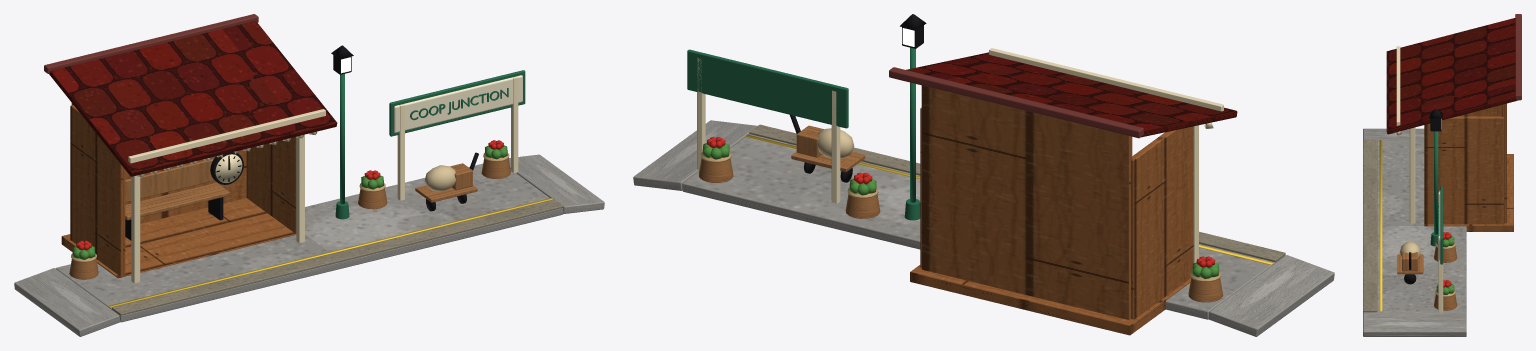
The model's file is station.glb.
3 renders of one model, left to right at view 1: azimuth 30°, elevation 25°; view 2: azimuth 150°, elevation 25°; view 3: azimuth 270°, elevation 25°, orthographic. The views are drawn at different scales.
Visible parts, largest first — view 1: st_roof, st_platform, st_floor, st_endwall, st_edge, st_endwall.001, st_ramp, st_sign, st_ramp.001, st_benchback, st_ridge, st_fascia (+17 smaller); view 2: st_back, st_platform, st_endwall, st_roof, st_signedge, st_ramp, st_floor, st_ridge, st_ramp.001, st_edge, st_fascia, st_signpost (+10 smaller); view 3: st_roof, st_platform, st_endwall.001, st_edge, st_ramp.001, st_floor, st_line, st_post.001, st_ramp, st_ridge, st_lamppole, st_fascia (+11 smaller).
Part boxes in pixels (x1,y1,x2,y2): st_roof: (49,21,337,176); st_platform: (55,163,563,322); st_floor: (61,198,296,278); st_endwall: (70,105,125,277); st_edge: (112,199,563,315); st_endwall.001: (246,137,296,233); st_ramp: (14,268,120,336); st_sign: (394,75,522,132); st_ramp.001: (508,154,604,213); st_benchback: (125,158,214,202); st_ridge: (44,14,258,73); st_fascia: (128,109,325,163); st_back: (921,85,1132,319); st_platform: (682,134,1285,319); st_endwall: (1131,126,1193,319); st_roof: (906,52,1237,137); st_signedge: (687,49,848,128); st_ramp: (1208,255,1334,336); st_floor: (910,265,1190,335); st_ridge: (889,67,1143,138); st_ramp.001: (633,120,757,190); st_edge: (749,124,1285,262); st_fascia: (989,48,1223,111); st_signpost: (831,90,840,203); st_roof: (1386,18,1517,134); st_platform: (1363,141,1466,312); st_endwall.001: (1424,116,1504,224); st_edge: (1363,139,1377,312); st_ramp.001: (1363,312,1466,336); st_floor: (1424,154,1513,231); st_line: (1379,140,1382,311); st_post.001: (1409,127,1415,223); st_ramp: (1363,128,1424,140); st_ridge: (1515,14,1521,100); st_lamppole: (1434,131,1438,234); st_fascia: (1396,46,1400,125).
Size of the model in its own units: 10.21 by 3.4 by 3.37.
18 materials, 6 textured.
